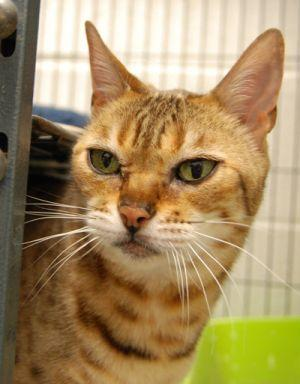bengal: (67, 1, 288, 296)
